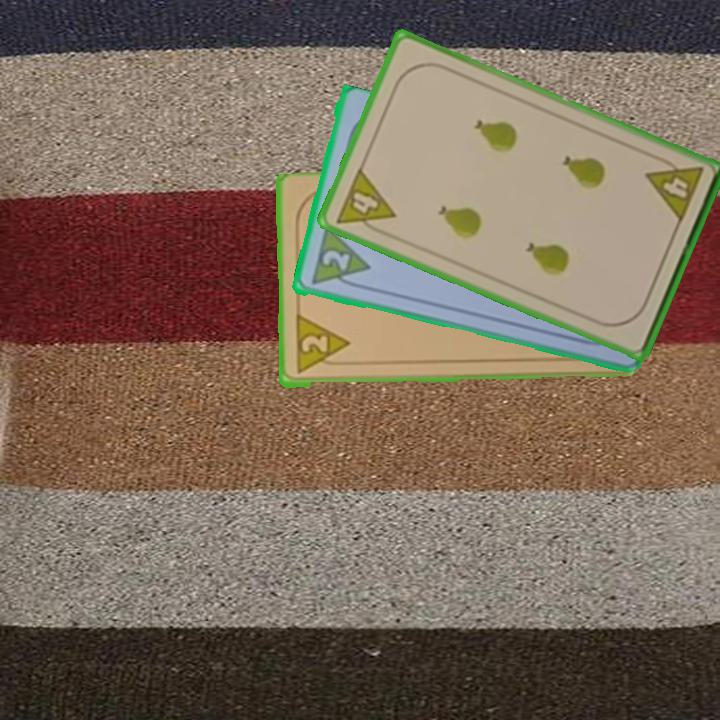2p: (292, 314, 352, 378), (318, 246, 353, 275)
4p: (332, 164, 398, 240), (642, 152, 707, 226)
